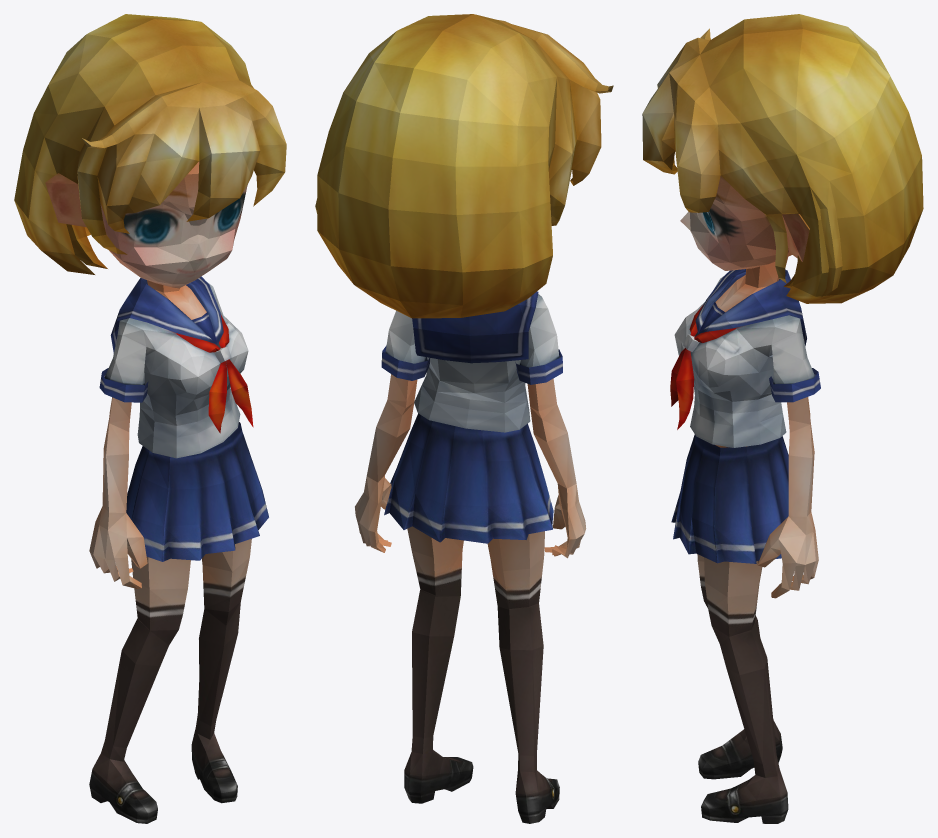
The model's file is character.gltf.
The picture shows the model from 3 angles, left to right: view 1: azimuth 30°, elevation 25°; view 2: azimuth 150°, elevation 25°; view 3: azimuth 270°, elevation 25°; orthographic projection. The views are drawn at different scales.
Bounding box in the file's own units: 0.7764 × 2.5 × 0.8239.
1 material, 1 textured.
